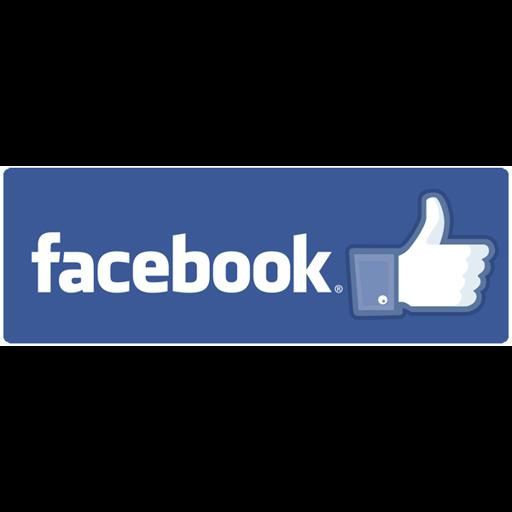Facebook: (0, 166, 512, 346)
